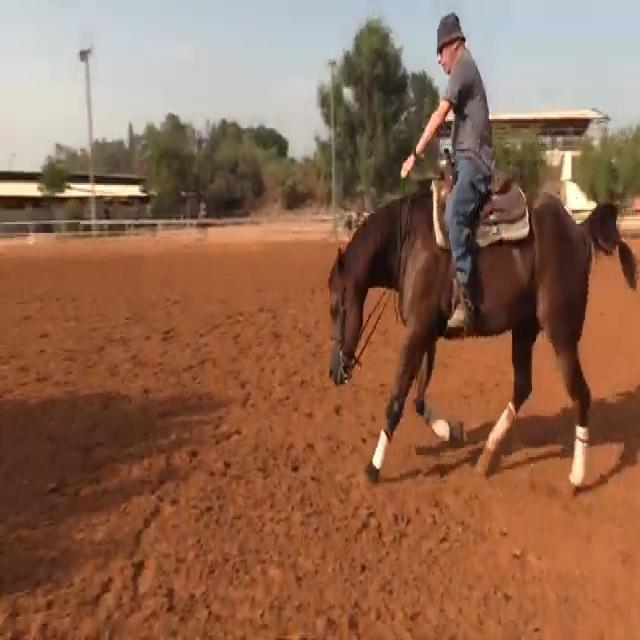horse: (324, 172, 636, 490)
